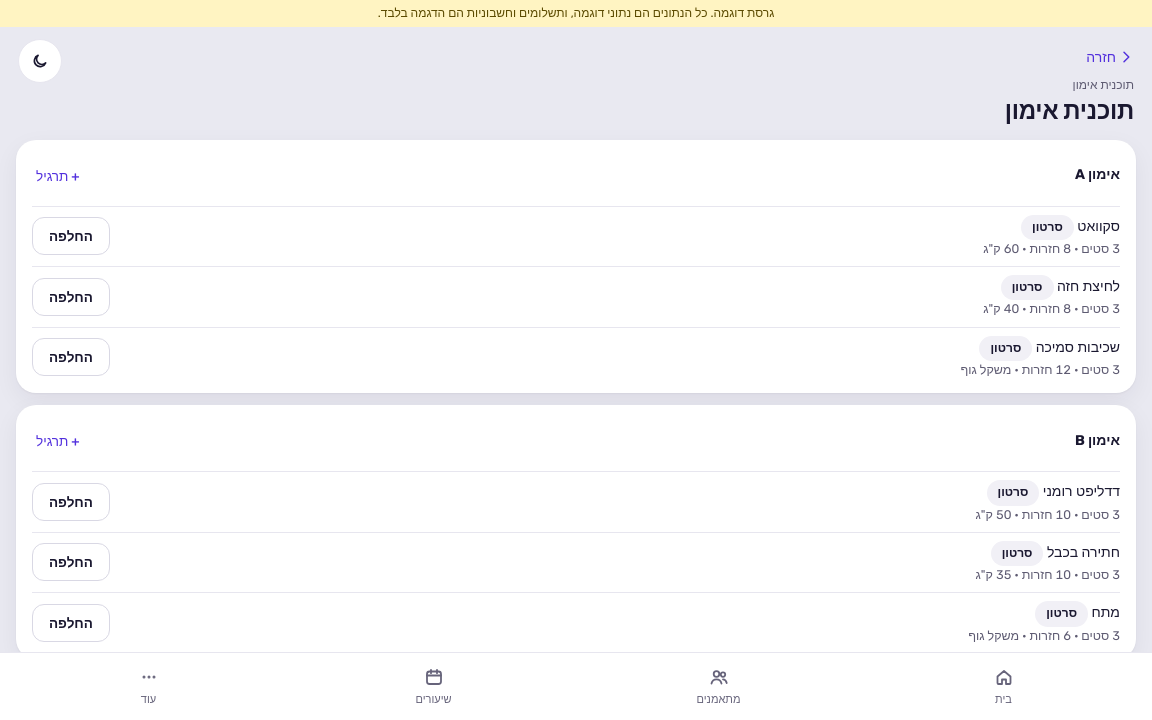
Test case: adding an exercise offers only the ones not yet in the workout, and starts at the first of them
Click the button "+ תרגיל" in the row of "אימון A": (58, 176) 32,154 -> 84,198
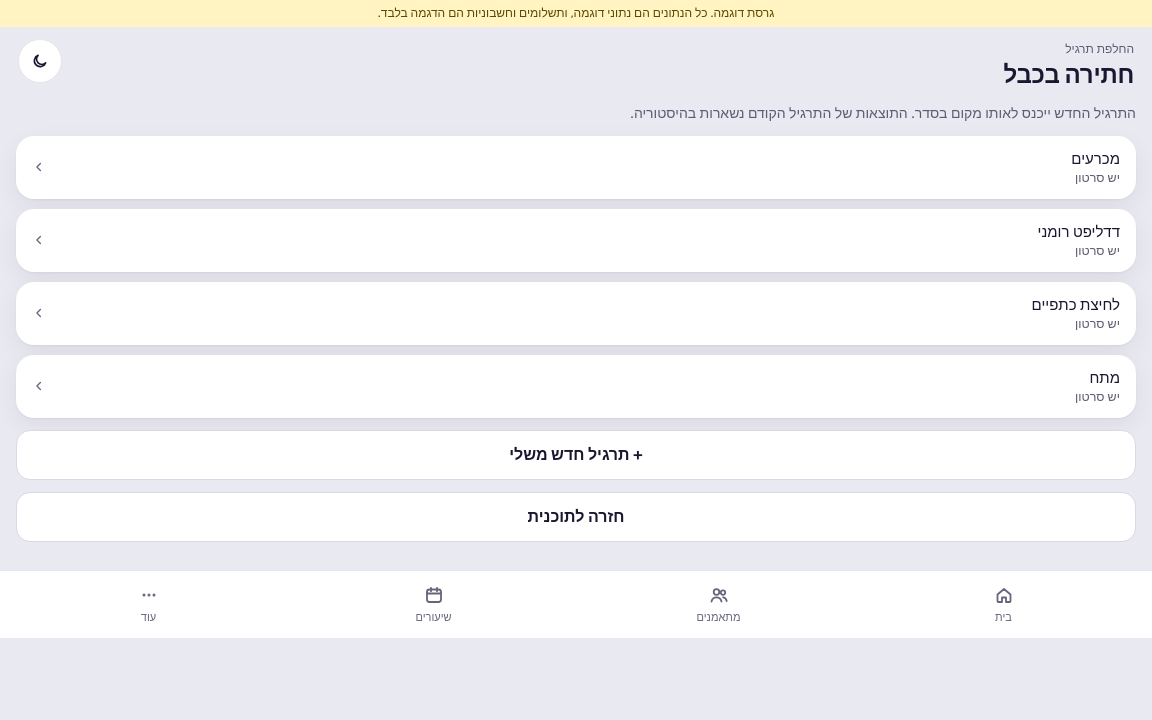
Expected: the text "החלפת תרגיל" is shown, 1065,42 -> 1134,56
Expected: the heading reads "חתירה בכבל", 1003,61 -> 1134,89
